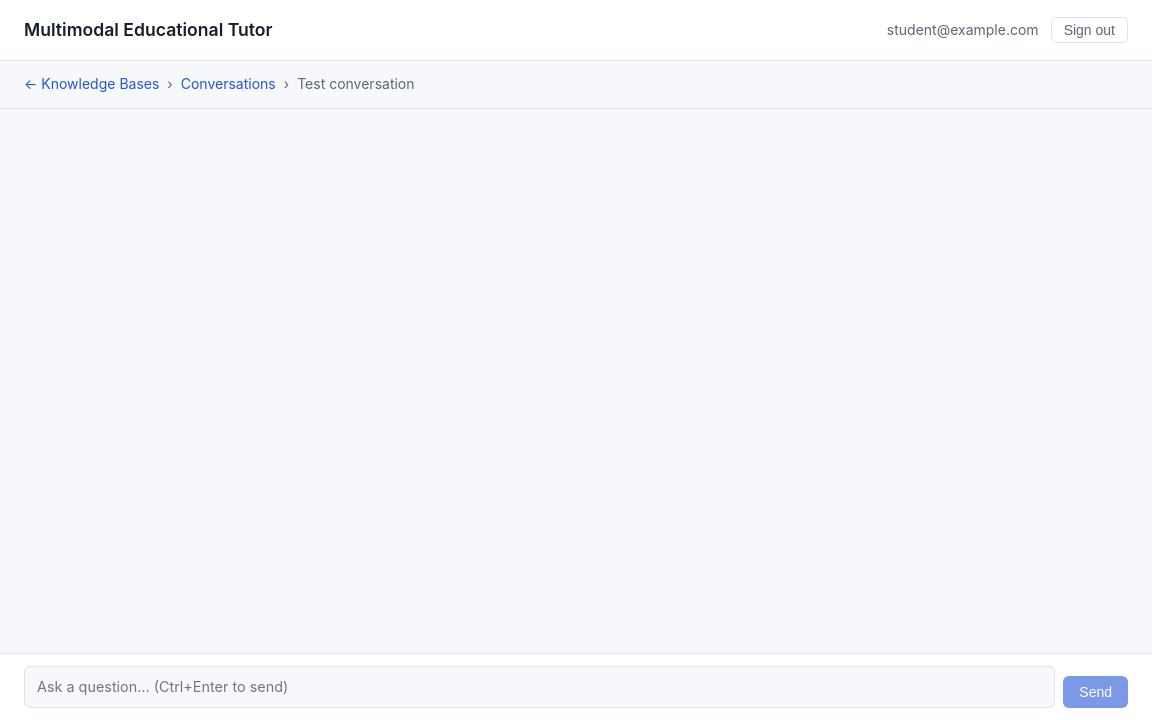
Scenario: Chat page › shows the response in history after the stream completes
Check: the button "Send" is shown, box [1063,676,1128,708]
Type "What is softmax?" into the text box named "Your question" at (540, 687), box [24,666,1055,708]
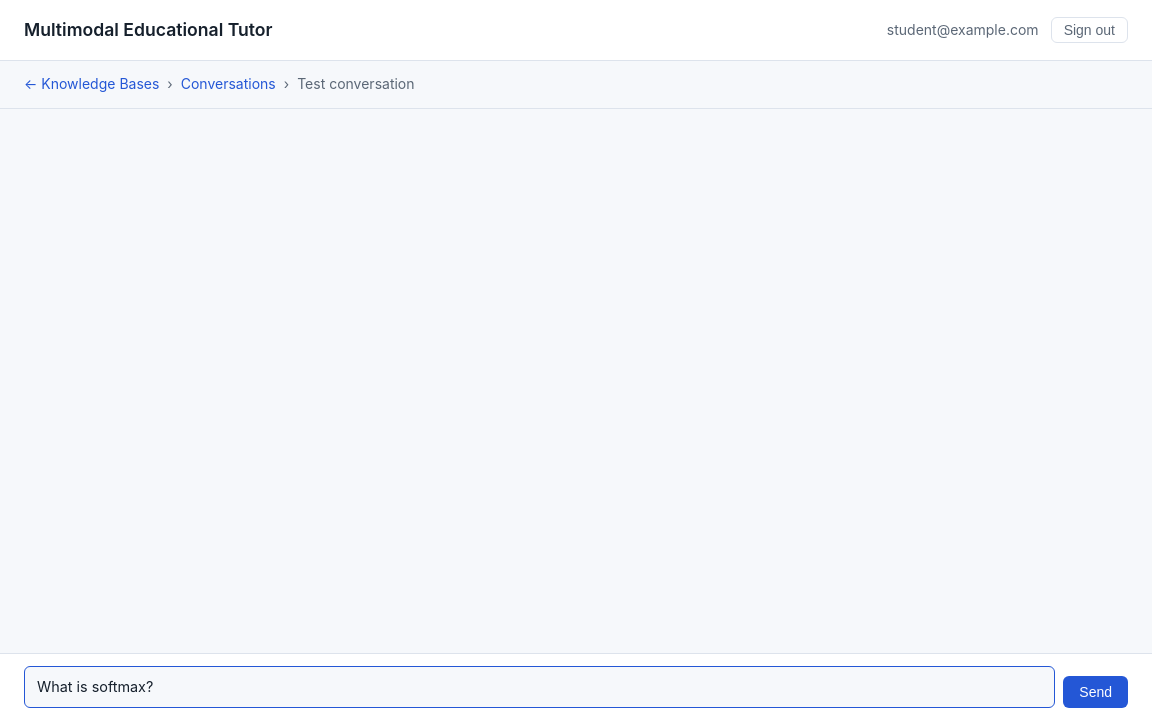
Click the button "Send" at (1096, 692), box [1063,676,1128,708]
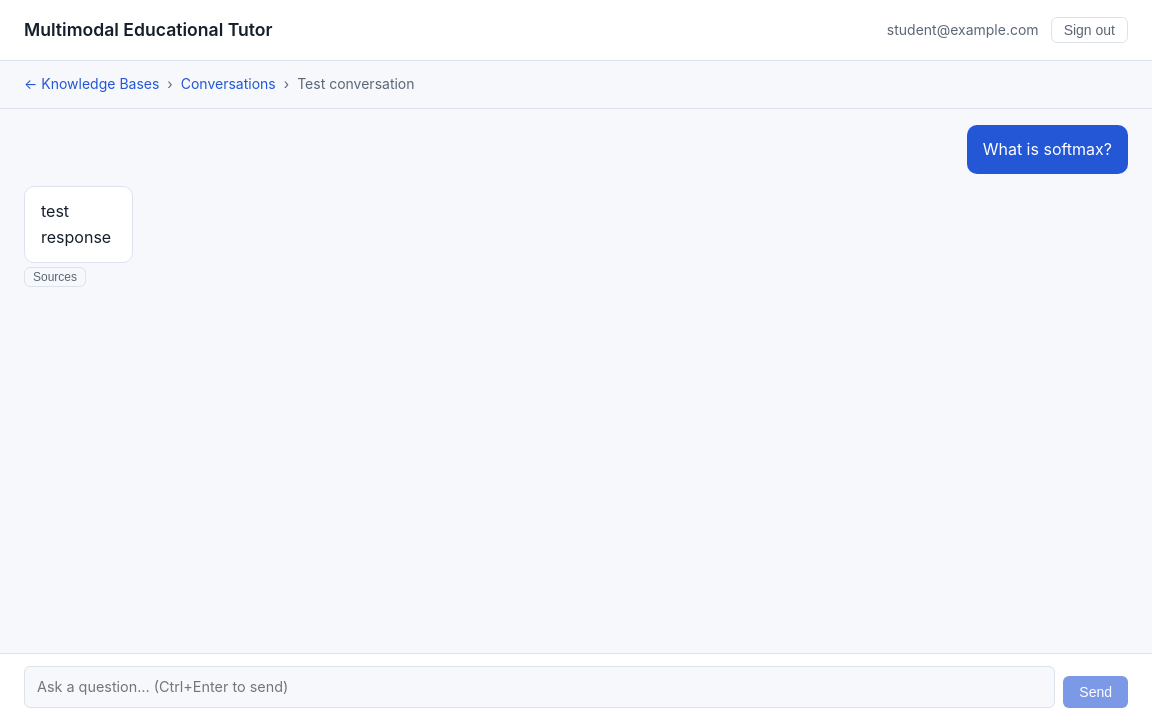
Check: the text "test response" is shown, box [41,201,111,247]
